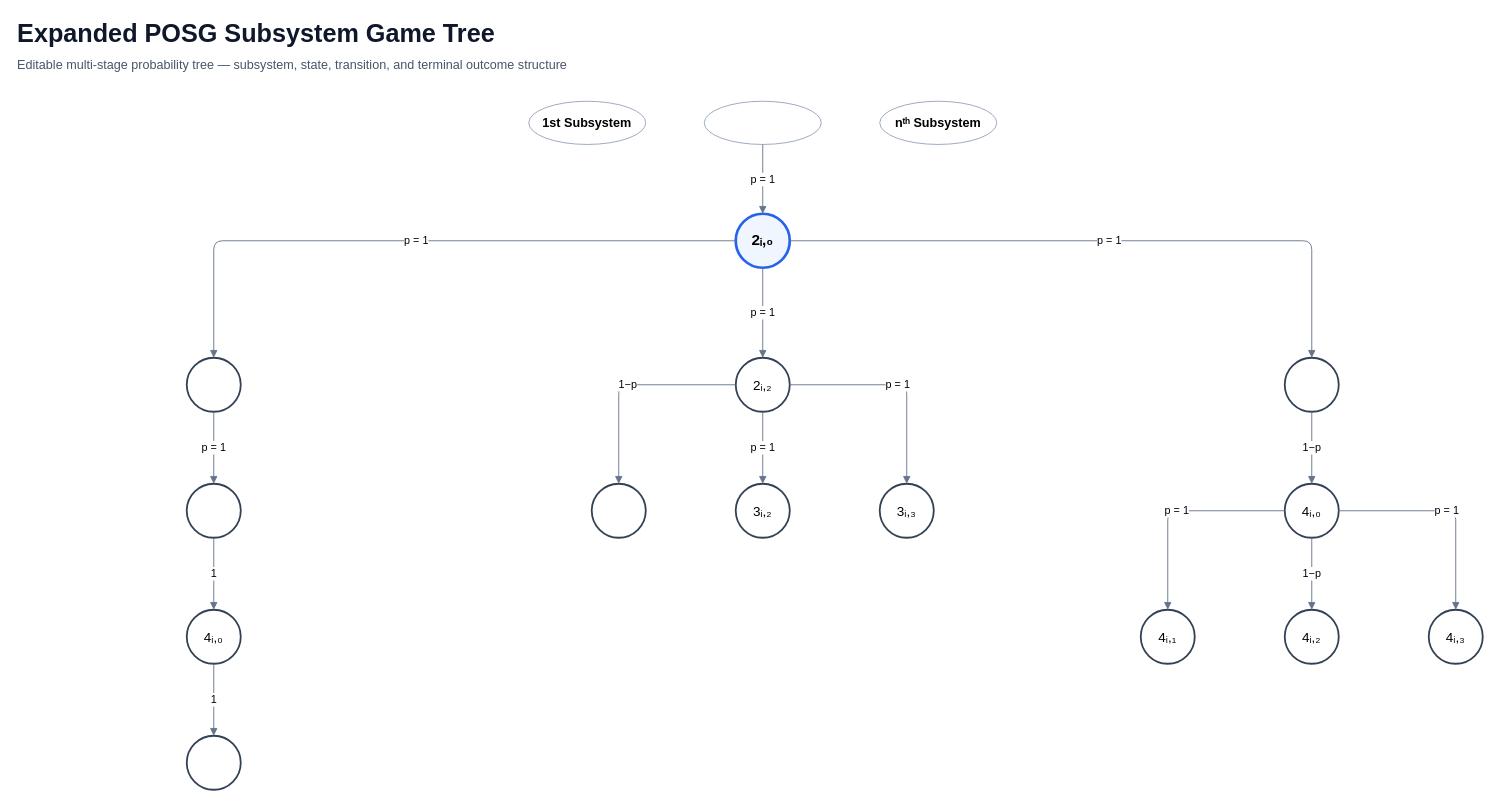
Some shapes in this 1499 by 806 pixel diagram are drawn without their labels. Each missing label, with the centre of its shape:
2ᵢ,₁: point 213,384
2ᵢ,₃: point 1311,384
3ᵢ,₀: point 213,510
3ᵢ,₁: point 618,510
5ᵢ,₀: point 213,762
iᵗʰ Subsystem: point 762,122
